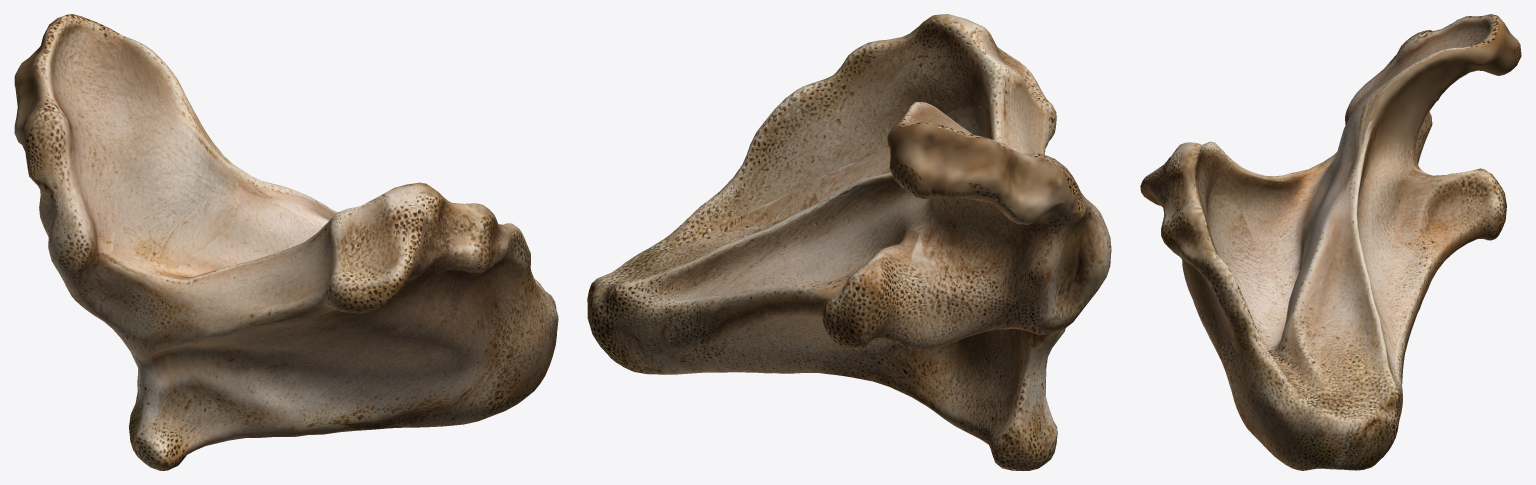
Rendered from BoneImports_Scapula.fbx.
The picture shows the model from 3 angles, left to right: view 1: azimuth 30°, elevation 25°; view 2: azimuth 150°, elevation 25°; view 3: azimuth 270°, elevation 25°; orthographic projection. The views are drawn at different scales.
Visible parts, largest first — view 1: texture_mapping; view 2: texture_mapping; view 3: texture_mapping.
Part boxes in pixels (left/top/right/bottom): texture_mapping: left=14, top=14, right=558, bottom=470; texture_mapping: left=587, top=14, right=1111, bottom=470; texture_mapping: left=1140, top=14, right=1521, bottom=470.
Size of the model in its own units: 1 by 0.8229 by 0.7624.
Materials: 1 (1 with a texture image).
